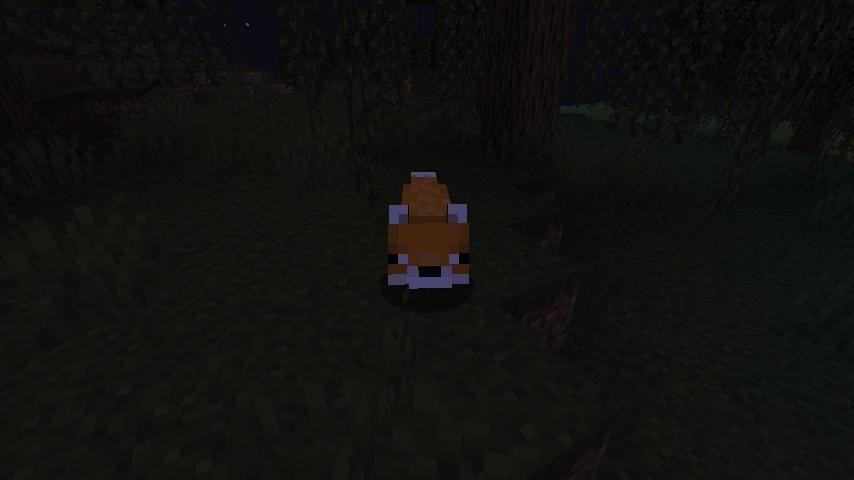fox: (382, 165, 481, 303)
